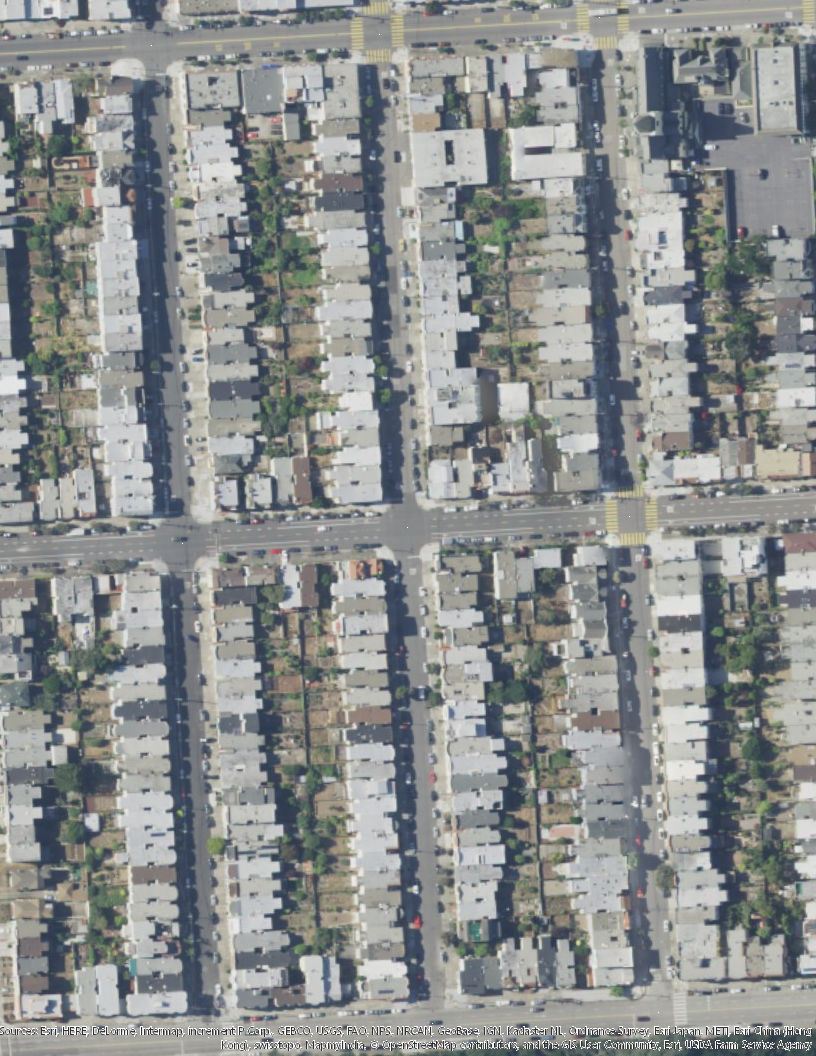zebracross: (348, 15, 366, 51), (389, 13, 407, 48), (673, 993, 688, 1027), (616, 1, 631, 35), (575, 2, 591, 33), (605, 500, 619, 535), (618, 483, 645, 500), (365, 49, 394, 64), (644, 497, 657, 530), (361, 2, 391, 15), (620, 532, 645, 546), (595, 36, 618, 50), (802, 1, 815, 23)
